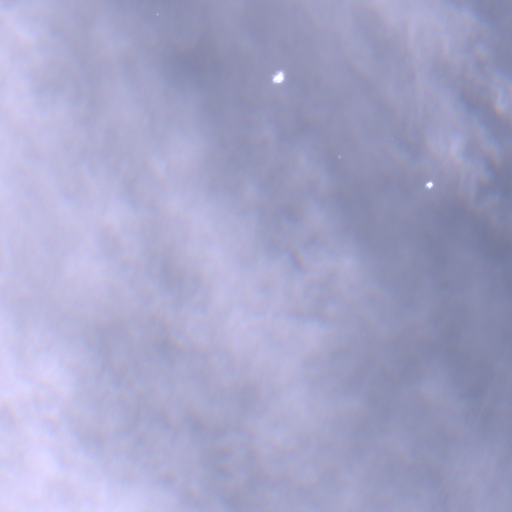Iceberg: (273, 71, 284, 82), (426, 181, 432, 188), (156, 13, 158, 15), (338, 156, 340, 158)
